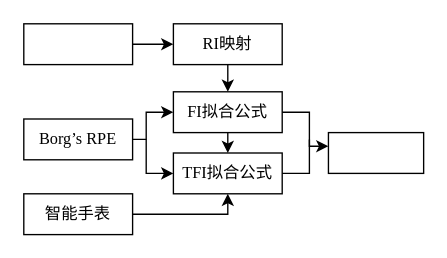
Image size: 447x258. Some labels were removed from this diagram. Each missing label, with the centre of its shape:
IMU: pixel 77 43
疲劳预警: pixel 375 152
